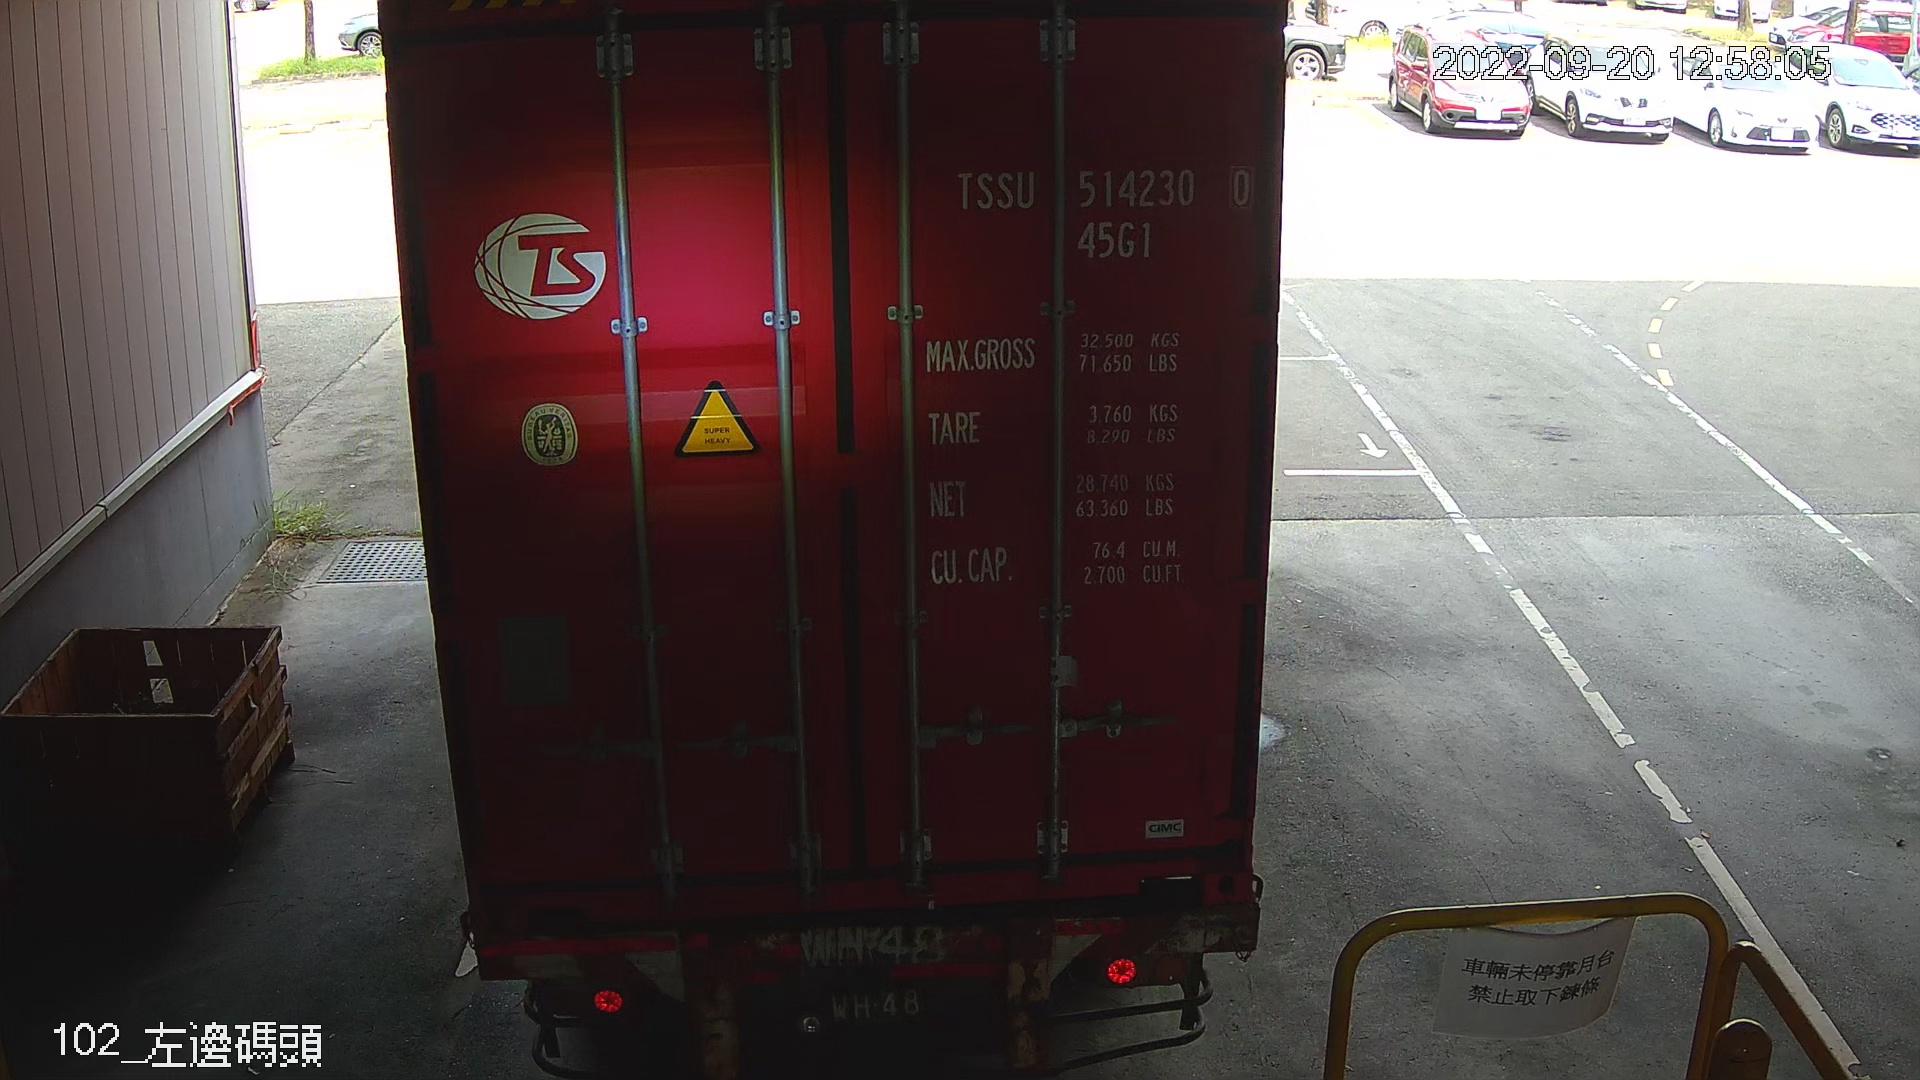container: (944, 157, 1270, 269)
